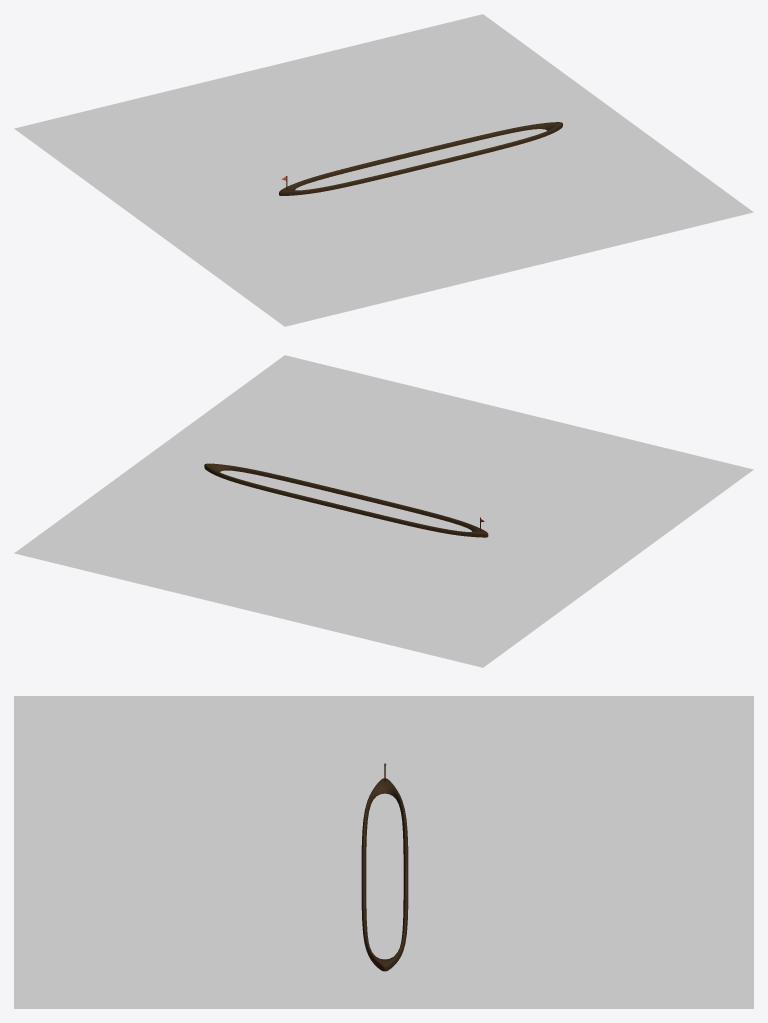
Rendered from pirogue3.gltf.
3 renders of one model, top to bottom at view 1: azimuth 30°, elevation 25°; view 2: azimuth 150°, elevation 25°; view 3: azimuth 270°, elevation 25°, orthographic. The views are drawn at different scales.
Parts seen in each view (by area): view 1: Plane, Cube; view 2: Plane, Cube; view 3: Plane, Cube.
Boxes of the visible parts, <box> form: Plane: <box>14,14,753,326</box>; Cube: <box>279,122,562,195</box>; Plane: <box>14,355,753,667</box>; Cube: <box>204,463,488,537</box>; Plane: <box>14,696,753,1008</box>; Cube: <box>361,763,408,971</box>.
Bounding box in the file's own units: 13.36 × 0.8511 × 13.36.
